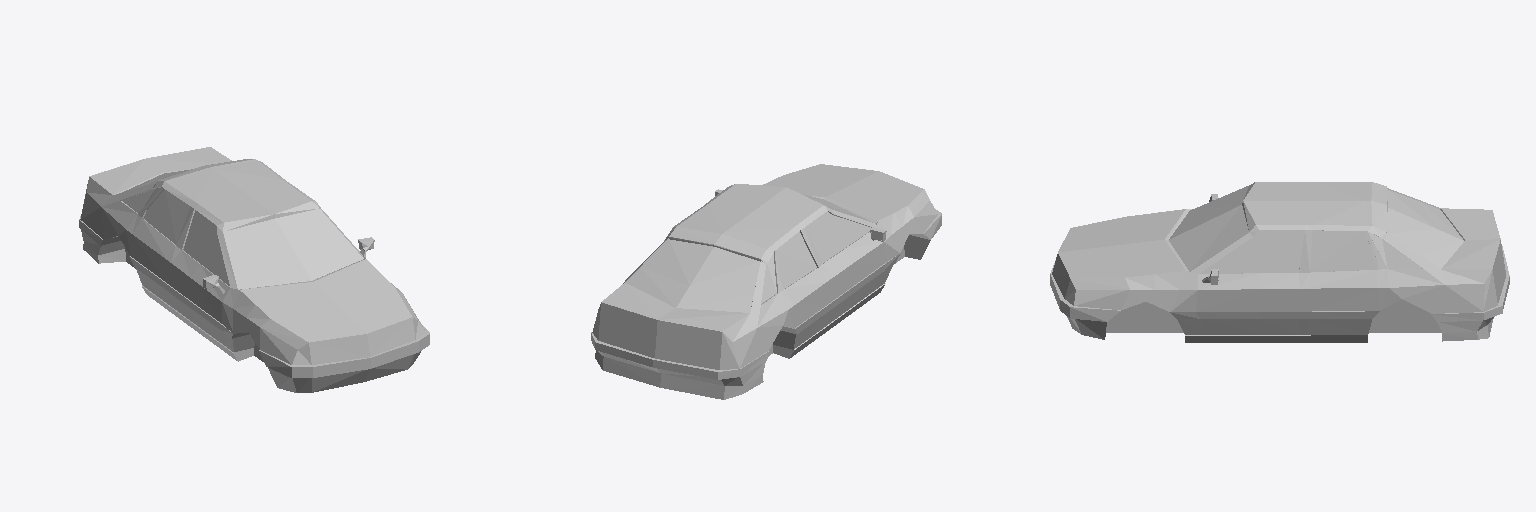
Rendered from hearken_autobahn.obj.
The picture shows the model from 3 angles: view 1: azimuth 30°, elevation 25°; view 2: azimuth 150°, elevation 25°; view 3: azimuth 270°, elevation 25°; orthographic projection.
Visible parts, largest first — view 1: Cube; view 2: Cube; view 3: Cube.
Boxes of the visible parts, box(x1,y1,x2,y2) form: Cube: box(79, 147, 429, 392); Cube: box(591, 164, 941, 399); Cube: box(1050, 182, 1509, 342).
Size of the model in its own units: 0.9761 by 0.6114 by 2.3.